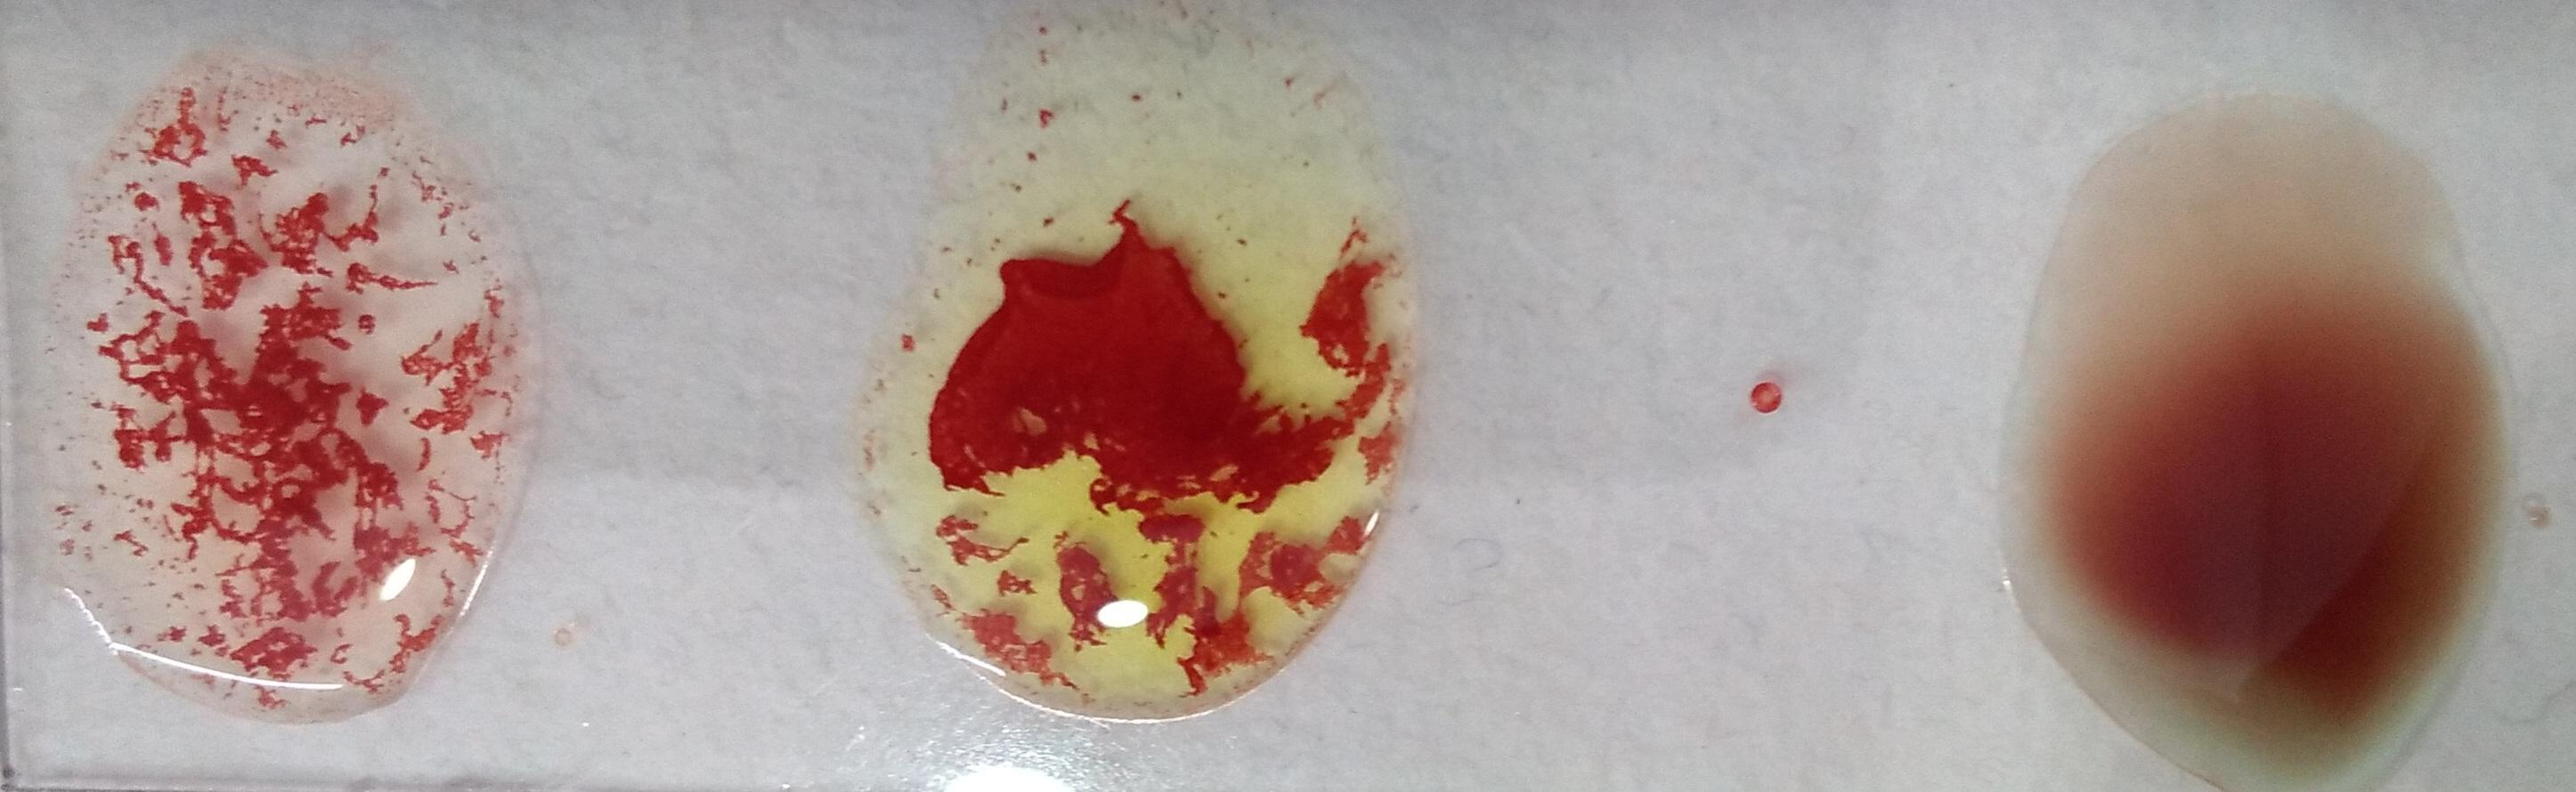B: (885, 69, 1424, 725)
D: (58, 77, 516, 725)
